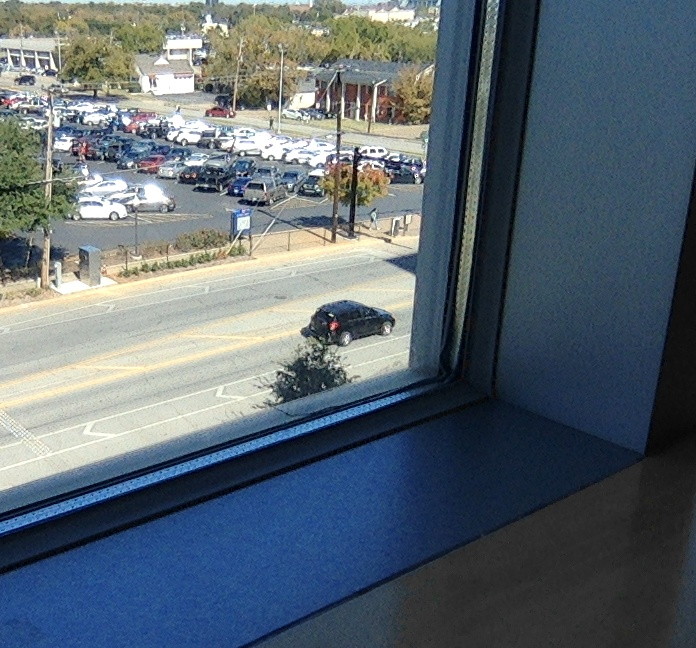car: (300, 300, 396, 348)
